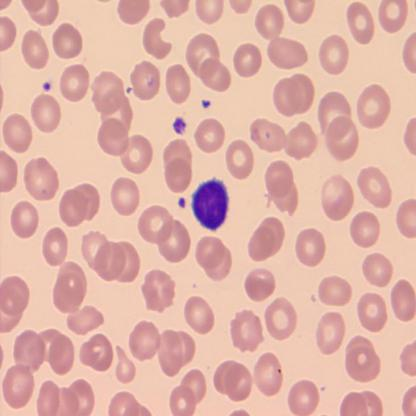Lymphocyte: (191, 178, 230, 230)
